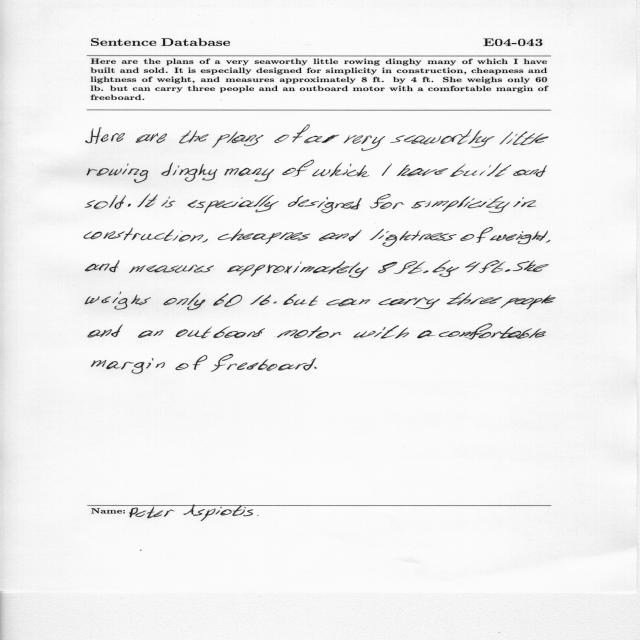word: (228, 261, 369, 278), (390, 129, 495, 148), (211, 354, 316, 372), (439, 323, 546, 340), (84, 227, 204, 242), (411, 196, 510, 213), (187, 195, 279, 213), (370, 229, 456, 247), (218, 229, 310, 244), (288, 196, 362, 213), (87, 163, 148, 183), (91, 358, 165, 374), (176, 326, 265, 339), (85, 292, 151, 309), (161, 163, 217, 182), (212, 131, 264, 148), (450, 163, 511, 177), (313, 163, 370, 177), (353, 325, 409, 339), (277, 326, 342, 338), (501, 295, 556, 309), (490, 231, 548, 244), (378, 297, 440, 309), (447, 293, 503, 306), (164, 293, 206, 310), (500, 131, 549, 145), (129, 265, 214, 273), (86, 127, 125, 144), (344, 135, 385, 151), (225, 168, 275, 181), (274, 125, 310, 143), (85, 195, 126, 209), (397, 165, 448, 176), (282, 160, 314, 177), (460, 227, 493, 243), (371, 194, 405, 209), (176, 355, 208, 370), (319, 230, 361, 241), (433, 260, 460, 277), (394, 261, 429, 274), (88, 325, 123, 338), (513, 260, 549, 272), (85, 261, 120, 273), (283, 294, 318, 306), (479, 261, 511, 274), (513, 165, 547, 177), (213, 293, 242, 307), (179, 131, 209, 144), (327, 299, 371, 307), (136, 133, 167, 143), (304, 135, 339, 143), (137, 194, 158, 207), (250, 295, 277, 305), (513, 197, 536, 207), (379, 262, 398, 273), (138, 330, 163, 338), (465, 262, 480, 273), (162, 197, 176, 208), (417, 330, 435, 338), (382, 163, 392, 176), (202, 239, 208, 243), (546, 240, 550, 243), (128, 204, 131, 207), (314, 367, 316, 369)
